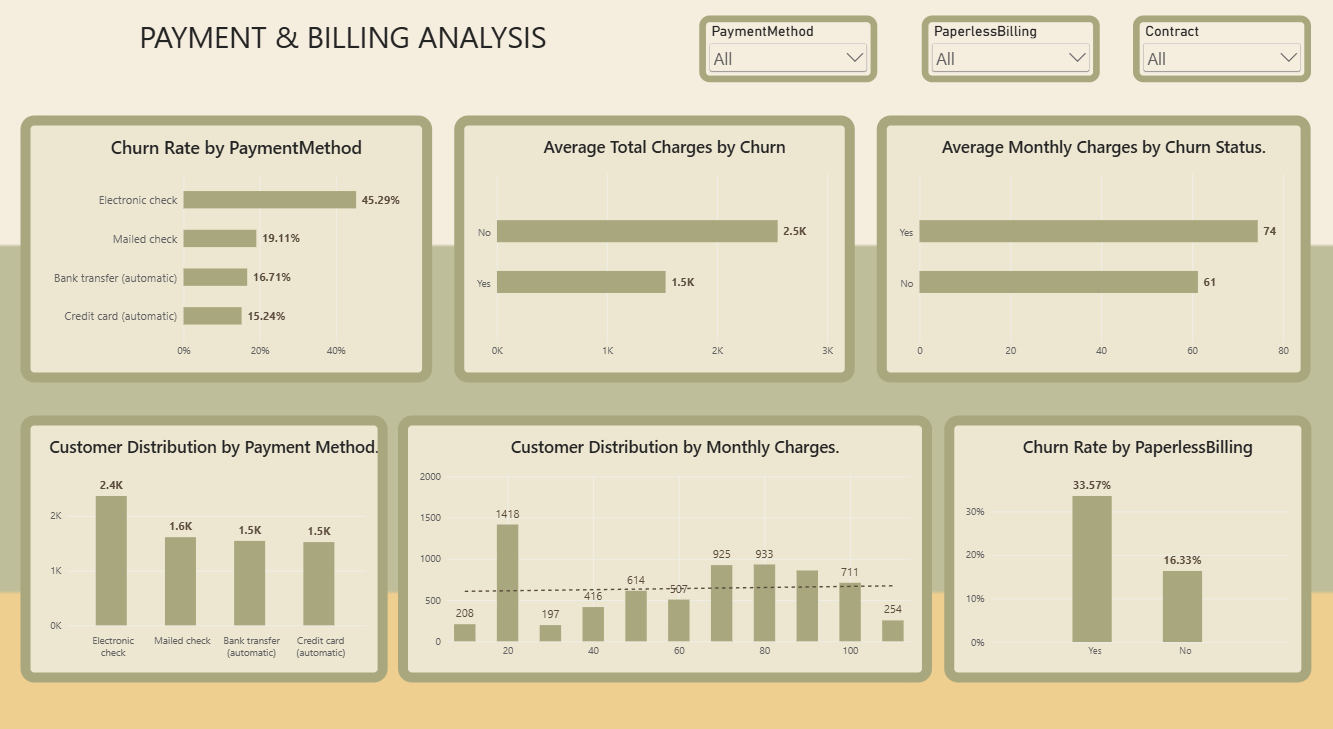

What the dashboard file says about the page in this screenshot:
{"tool":"powerbi","page":{"name":"Payment & Billing Analysis","canvas":[1920,1080],"ordinal":4},"visuals":[{"type":"textbox","box":[0,32,992,96],"z":0},{"type":"slicer","fields":{"Values":["CustomerChurn.PaymentMethod"]},"box":[1008,32,256,96],"z":1},{"type":"slicer","fields":{"Values":["CustomerChurn.PaperlessBilling"]},"box":[1328,32,256,96],"z":2},{"type":"slicer","fields":{"Values":["CustomerChurn.Contract"]},"box":[1632,32,256,96],"z":3},{"type":"clusteredBarChart","title":"Churn Rate by PaymentMethod","fields":{"Category":["CustomerChurn.PaymentMethod"],"Y":["Measure.Churn Rate"]},"box":[32,176,592,384],"z":4},{"type":"clusteredColumnChart","title":"Churn Rate by PaperlessBilling","fields":{"Category":["CustomerChurn.PaperlessBilling"],"Y":["Measure.Churn Rate"]},"box":[1360,608,528,384],"z":5},{"type":"clusteredBarChart","title":"Average Monthly Charges by Churn Status.","fields":{"Category":["CustomerChurn.Churn"],"Y":["Measure.Avg Monthly Charges"]},"box":[1264,176,624,384],"z":6},{"type":"clusteredBarChart","fields":{"Category":["CustomerChurn.Churn"],"Y":["Measure.Average Total Charges"]},"box":[656,176,576,384],"z":7},{"type":"clusteredColumnChart","title":"Customer Distribution by Payment Method.","fields":{"Category":["CustomerChurn.PaymentMethod"],"Y":["Measure.Total Customers"]},"box":[32,608,528,384],"z":8},{"type":"clusteredColumnChart","title":"Customer Distribution by Monthly Charges.","fields":{"Category":["CustomerChurn.MonthlyCharges (bins)"],"Y":["Measure.Total Customers"]},"box":[576,608,768,384],"z":9}]}

Visuals, with their boxes in screenshot pixels (x1, y1, x2, y2), scaled from the page's 1920x1080 canvas onto the 1333x729 screenshot:
textbox: bbox=[0, 22, 689, 86]
slicer - CustomerChurn.PaymentMethod: bbox=[700, 22, 878, 86]
slicer - CustomerChurn.PaperlessBilling: bbox=[922, 22, 1100, 86]
slicer - CustomerChurn.Contract: bbox=[1133, 22, 1311, 86]
"Churn Rate by PaymentMethod" clusteredBarChart: bbox=[22, 119, 433, 378]
"Churn Rate by PaperlessBilling" clusteredColumnChart: bbox=[944, 410, 1311, 670]
"Average Monthly Charges by Churn Status." clusteredBarChart: bbox=[878, 119, 1311, 378]
clusteredBarChart - CustomerChurn.Churn x Measure.Average Total Charges: bbox=[455, 119, 855, 378]
"Customer Distribution by Payment Method." clusteredColumnChart: bbox=[22, 410, 389, 670]
"Customer Distribution by Monthly Charges." clusteredColumnChart: bbox=[400, 410, 933, 670]
